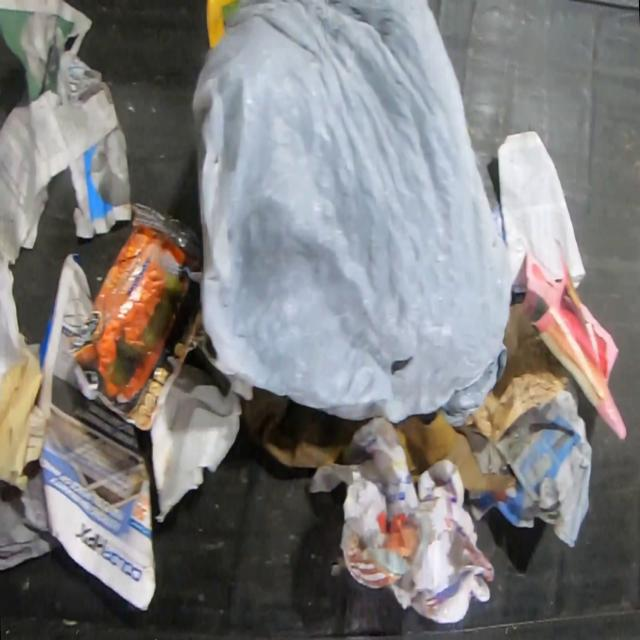cardboard: (241, 384, 367, 468), (394, 412, 516, 497)
soft_plastic: (192, 0, 515, 427), (70, 202, 210, 434)
